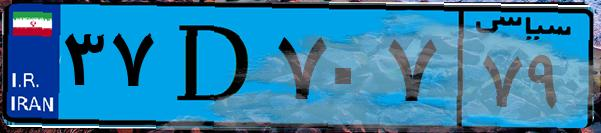0: (330, 28, 385, 110)
3: (57, 26, 110, 100)
7: (270, 28, 330, 110), (385, 28, 445, 110), (475, 38, 525, 113), (110, 28, 158, 98)
9: (525, 38, 570, 115)
D: (158, 12, 270, 120)
